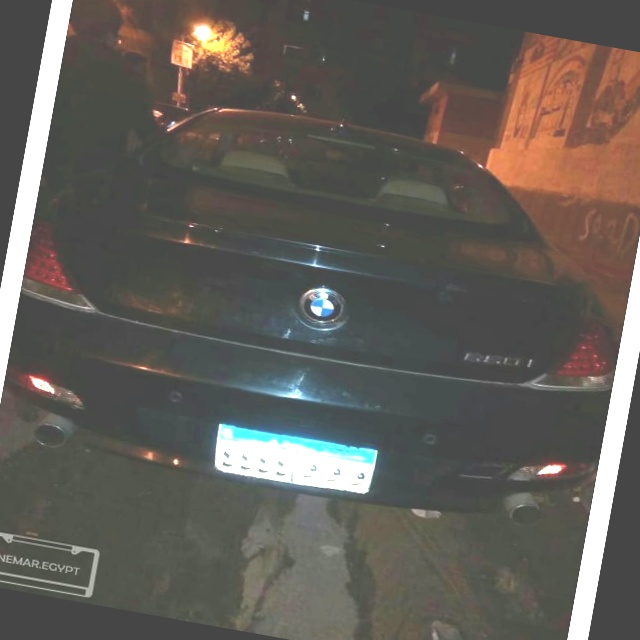License Plate: (208, 415, 382, 502)
